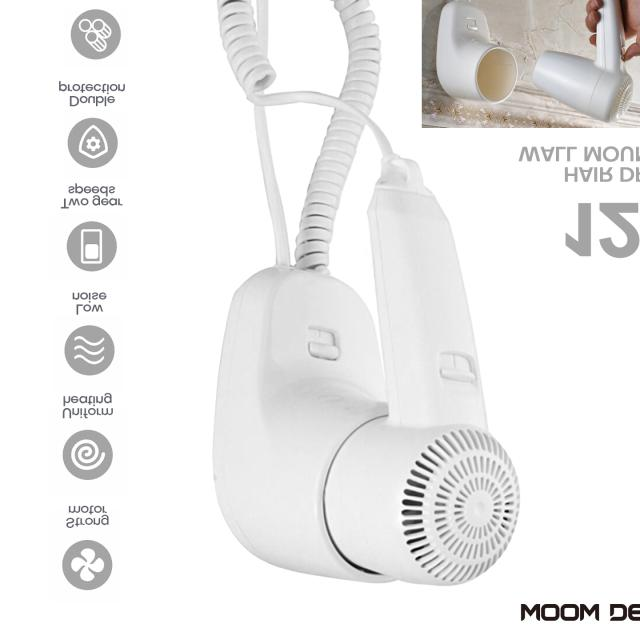dryer: (193, 0, 528, 599)
